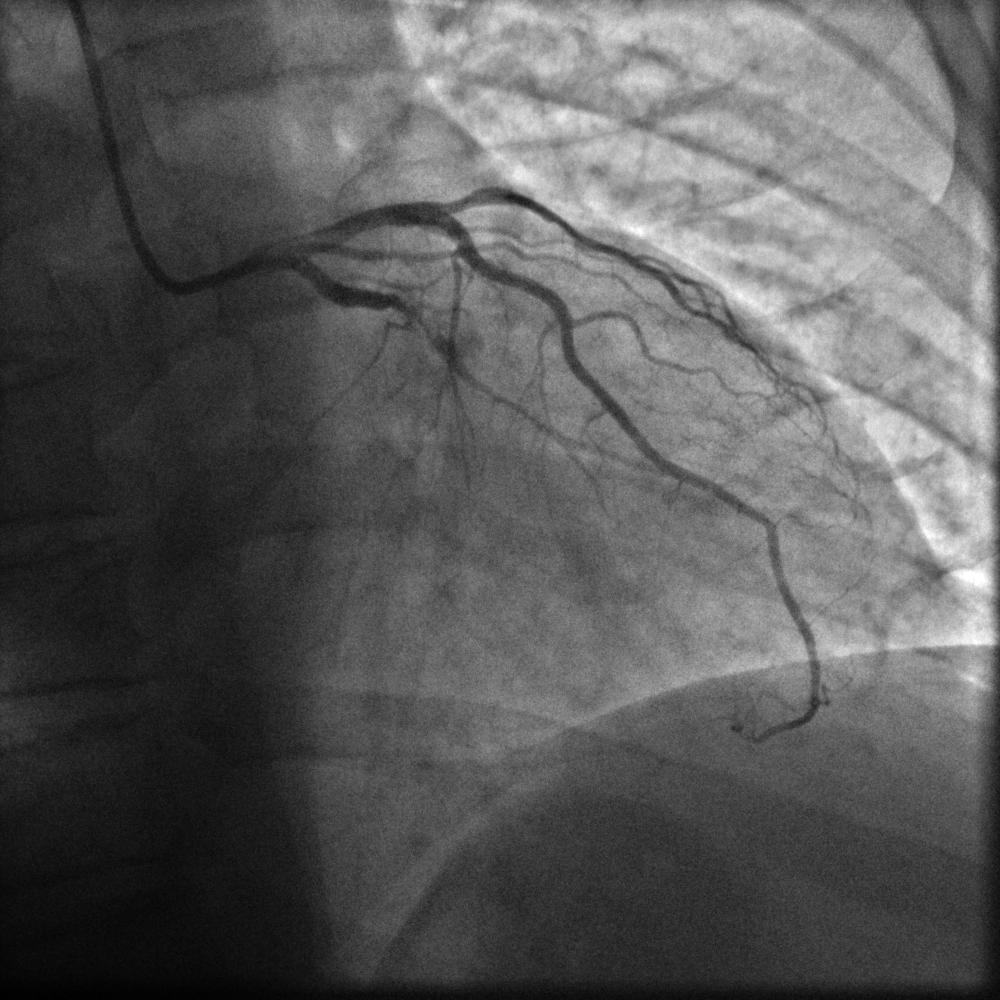Stenosis: (387, 294, 446, 354)
